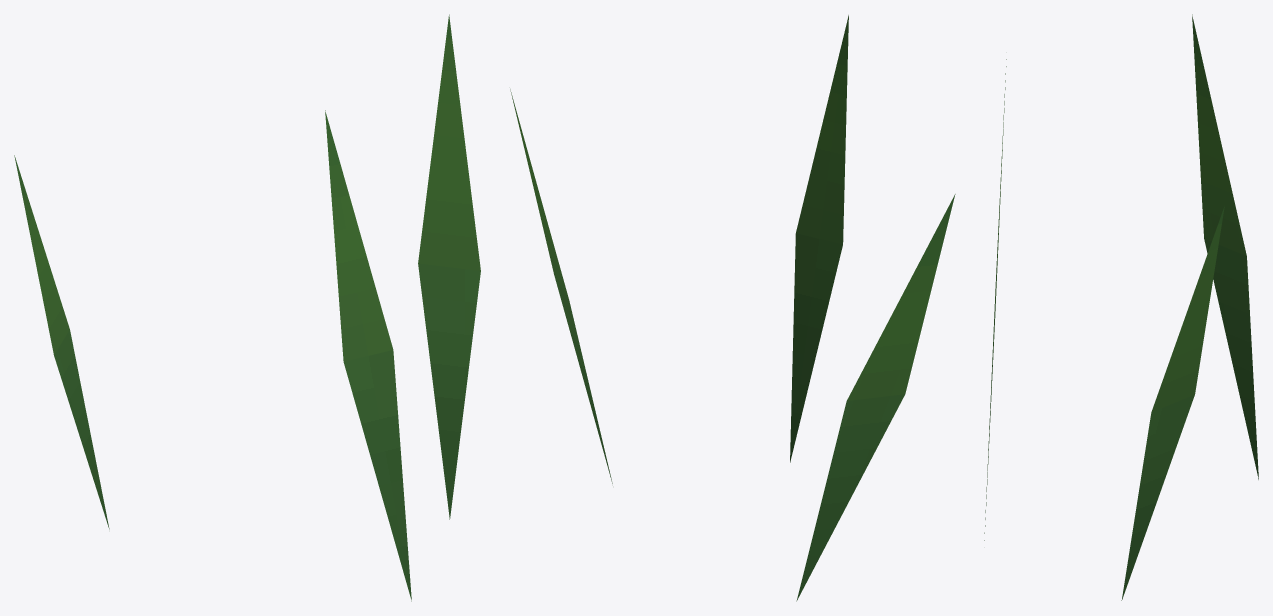
File: plants_me_dlc2_main_grass501.gltf
3 renders of one model, left to right at view 1: azimuth 30°, elevation 25°; view 2: azimuth 150°, elevation 25°; view 3: azimuth 270°, elevation 25°, orthographic. The views are drawn at different scales.
Parts seen in each view (by area): view 1: plants_me_dlc2_main_grass501_mesh_shape:plants_me_dlc2_main_; view 2: plants_me_dlc2_main_grass501_mesh_shape:plants_me_dlc2_main_; view 3: plants_me_dlc2_main_grass501_mesh_shape:plants_me_dlc2_main_.
Part boxes in pixels (left/top/right/bottom): plants_me_dlc2_main_grass501_mesh_shape:plants_me_dlc2_main_: left=14, top=14, right=480, bottom=601; plants_me_dlc2_main_grass501_mesh_shape:plants_me_dlc2_main_: left=510, top=15, right=955, bottom=601; plants_me_dlc2_main_grass501_mesh_shape:plants_me_dlc2_main_: left=984, top=14, right=1258, bottom=600.
Size of the model in its own units: 0.4252 by 0.45 by 0.24.
Materials: 1 (1 with a texture image).
